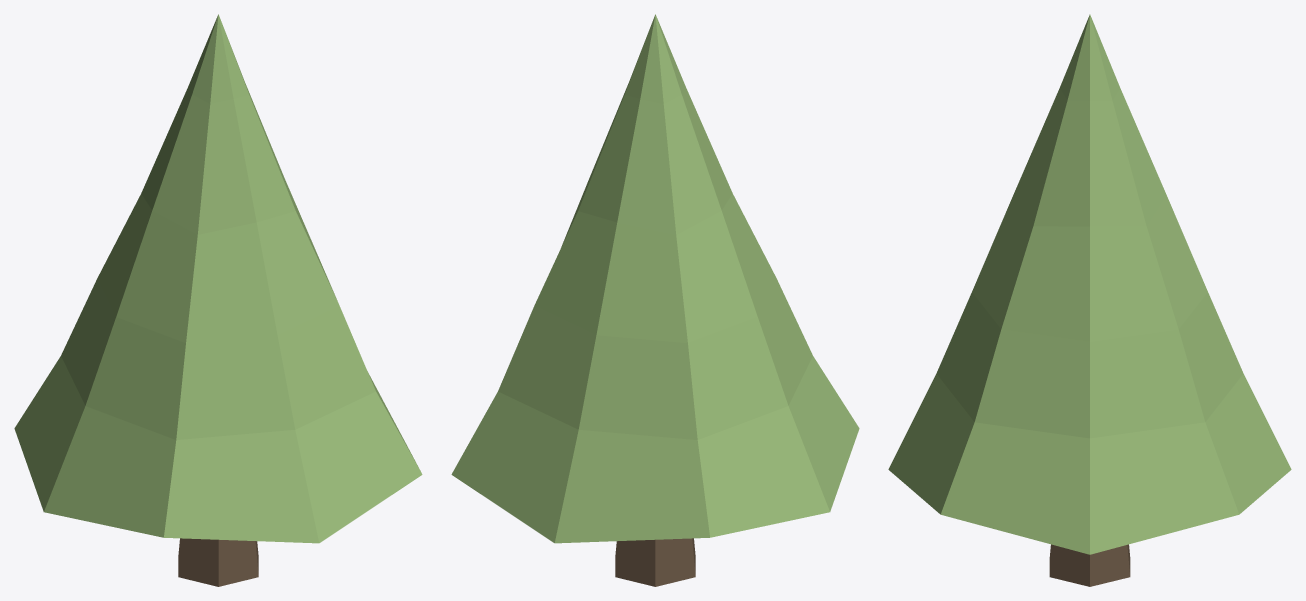
Rendered from Tree 08.fbx.
The picture shows the model from 3 angles, left to right: view 1: azimuth 30°, elevation 25°; view 2: azimuth 150°, elevation 25°; view 3: azimuth 270°, elevation 25°; orthographic projection.
Parts seen in each view (by area): view 1: group267_pCylinder347; view 2: group267_pCylinder347; view 3: group267_pCylinder347.
Part boxes in pixels (x1=…): group267_pCylinder347: x1=14, y1=14, x2=422, y2=586; group267_pCylinder347: x1=451, y1=14, x2=859, y2=586; group267_pCylinder347: x1=888, y1=14, x2=1291, y2=586.
Size of the model in its own units: 1.82 by 2.76 by 1.82.
